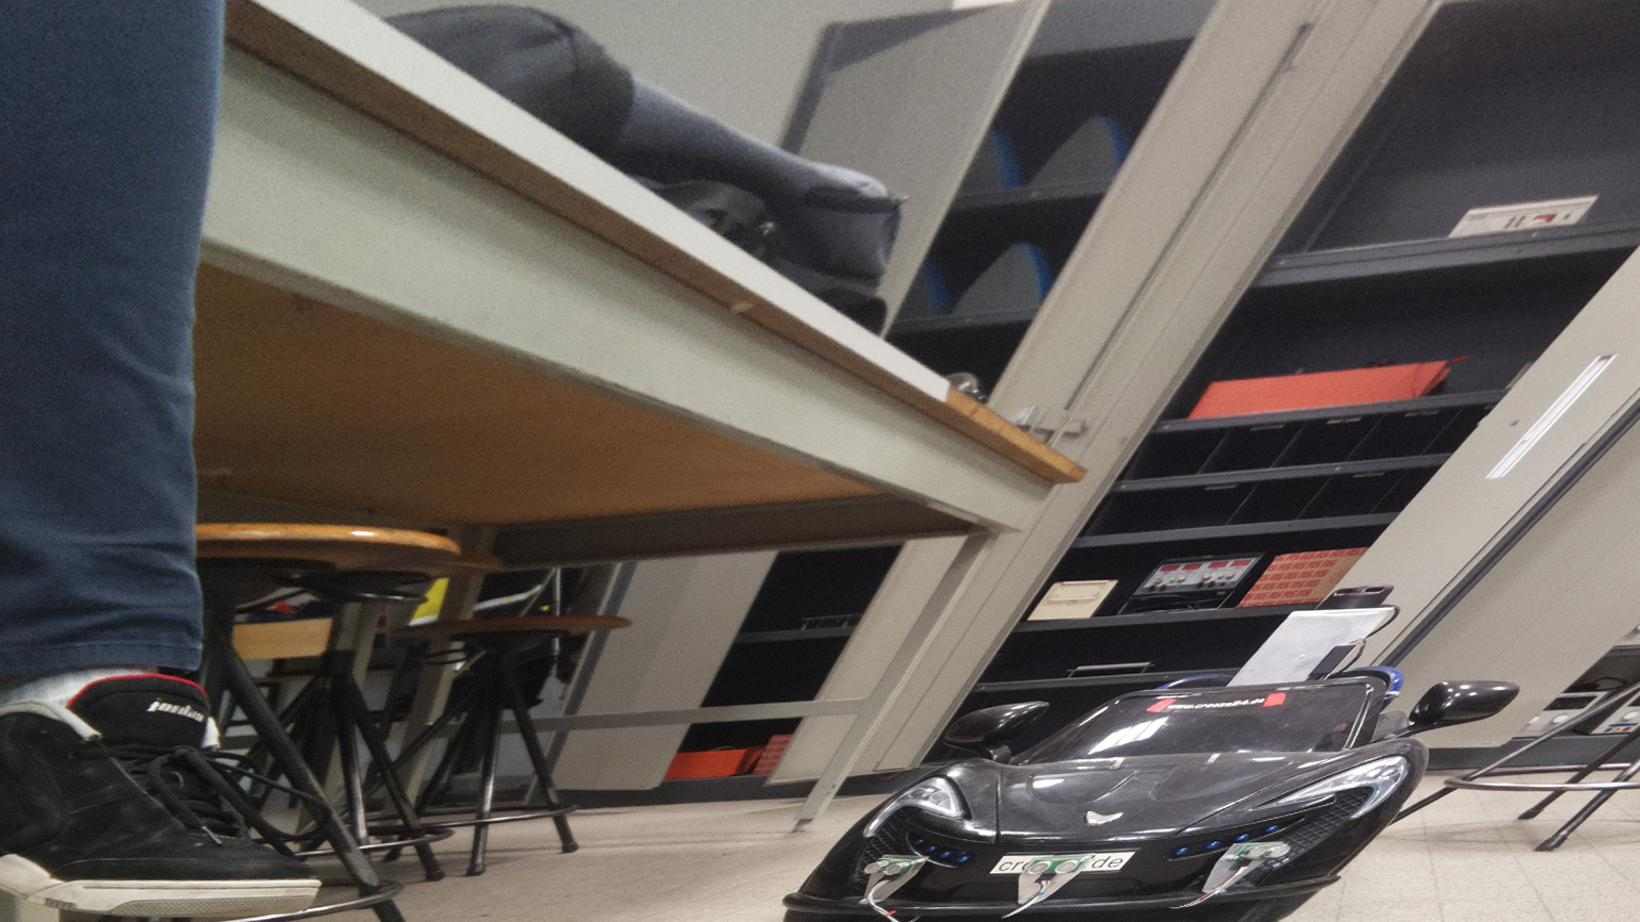big: (775, 662, 1519, 922)
